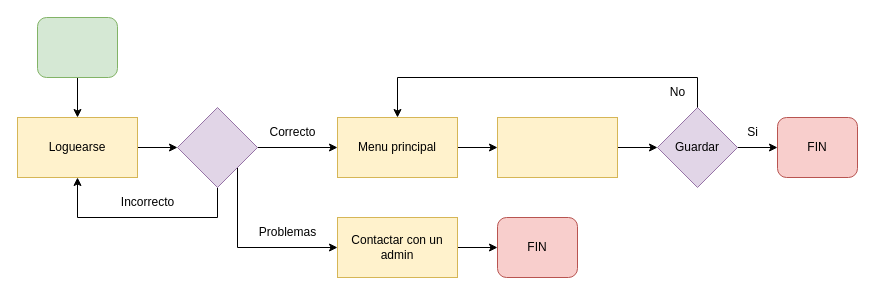
Some shapes in this 875 by 295 pixel diagram are drawn without their labels. The shapes that lost their labels are listed below. From the top down, each one's centre as x and y in pixels, then its label:
At (x=77, y=47): "Inicio".
At (x=217, y=147): "Verificar".
At (x=557, y=147): "Editar datos de localización".
